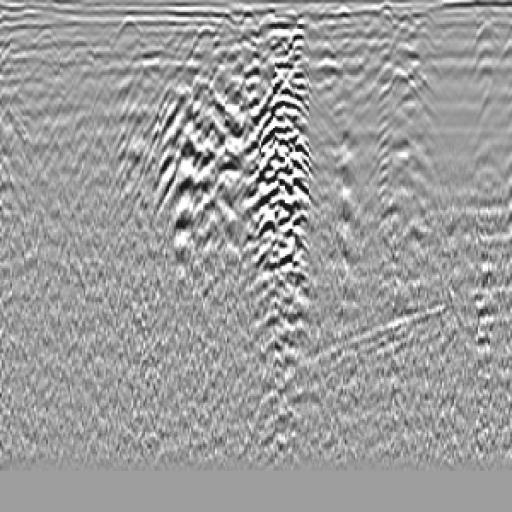metalic: (249, 22, 344, 231)
